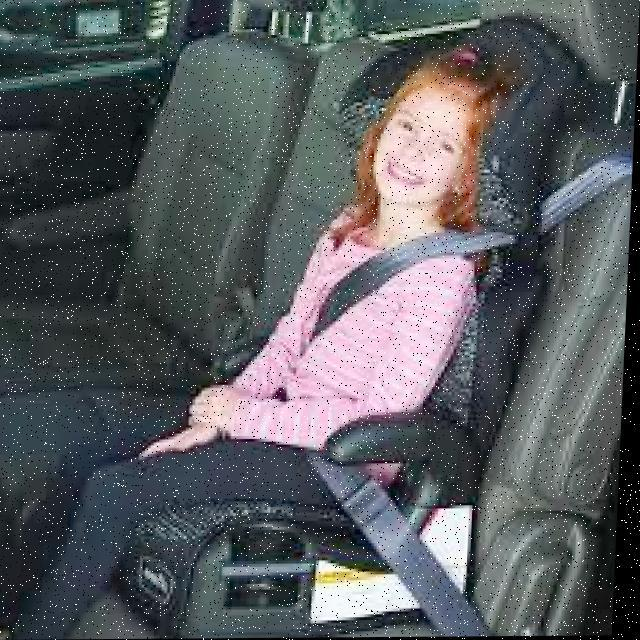seatbelt: (280, 193, 518, 543)
